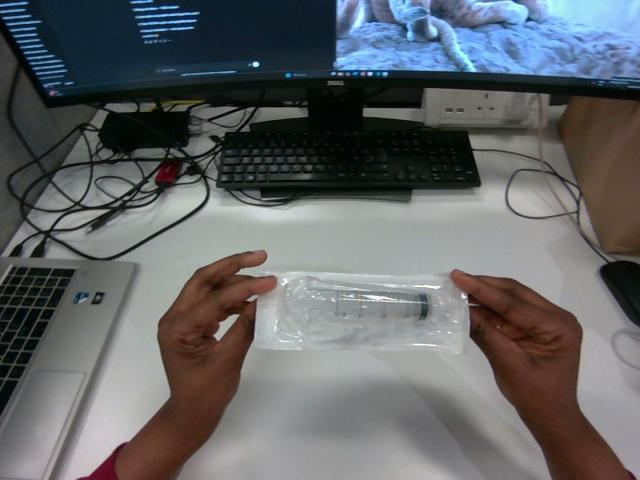syringe: (254, 272, 468, 352)
